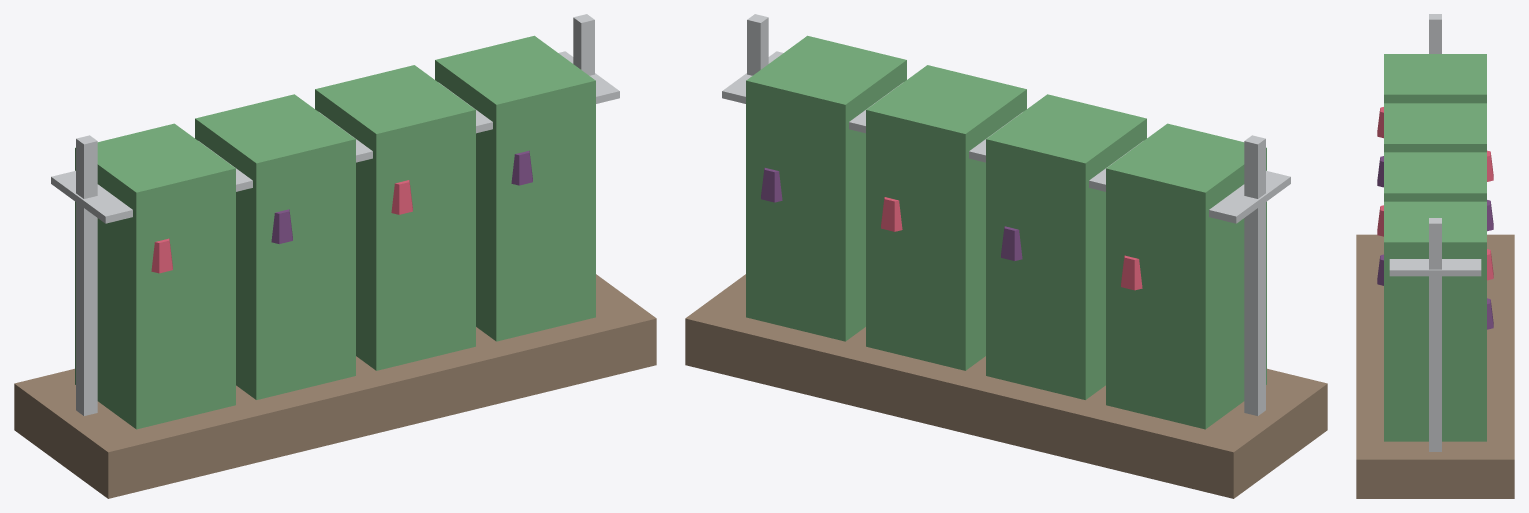
Rendered from flora_41_rubus_idaeus_luong_phuc_bon_tu_do_den_lac_duong_lam_vien.glb.
3 views of the same model, side by side, from view 1: azimuth 30°, elevation 25°; view 2: azimuth 150°, elevation 25°; view 3: azimuth 270°, elevation 25° (orthographic). The views are drawn at different scales.
Parts seen in each view (by area): view 1: flora_41_rubus_idaeus_luong_phuc_bon_tu_do_den_lac_duong_lam; view 2: flora_41_rubus_idaeus_luong_phuc_bon_tu_do_den_lac_duong_lam; view 3: flora_41_rubus_idaeus_luong_phuc_bon_tu_do_den_lac_duong_lam.
Part boxes in pixels (x1,y1,x2,y2): flora_41_rubus_idaeus_luong_phuc_bon_tu_do_den_lac_duong_lam: (14,14,656,498); flora_41_rubus_idaeus_luong_phuc_bon_tu_do_den_lac_duong_lam: (685,14,1327,498); flora_41_rubus_idaeus_luong_phuc_bon_tu_do_den_lac_duong_lam: (1356,14,1514,498).
Bounding box in the file's own units: 3.2 × 1.77 × 0.95.
